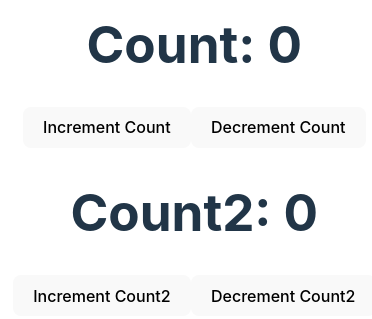
Test: App › First count is incrementing correctly
This screenshot has width=372, height=319.
Expected: the heading with test id "count display" reads "Count: 0", [86,16,302,72]
Click the button "Increment Count".
click(107, 127)  # box [23,107,191,148]
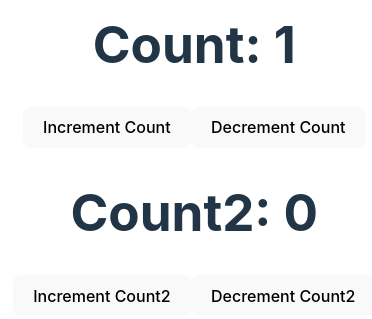
Expected: the heading with test id "count display" reads "Count: 1", [93,16,296,72]
Click the button "Increment Count".
click(107, 127)  # box [23,107,191,148]
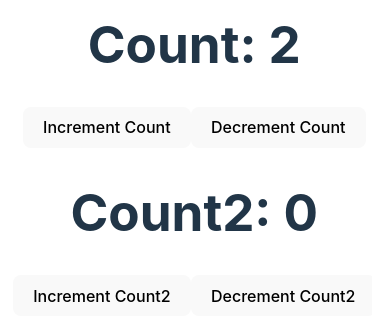
Expected: the heading with test id "count display" reads "Count: 2", [88,16,301,72]
